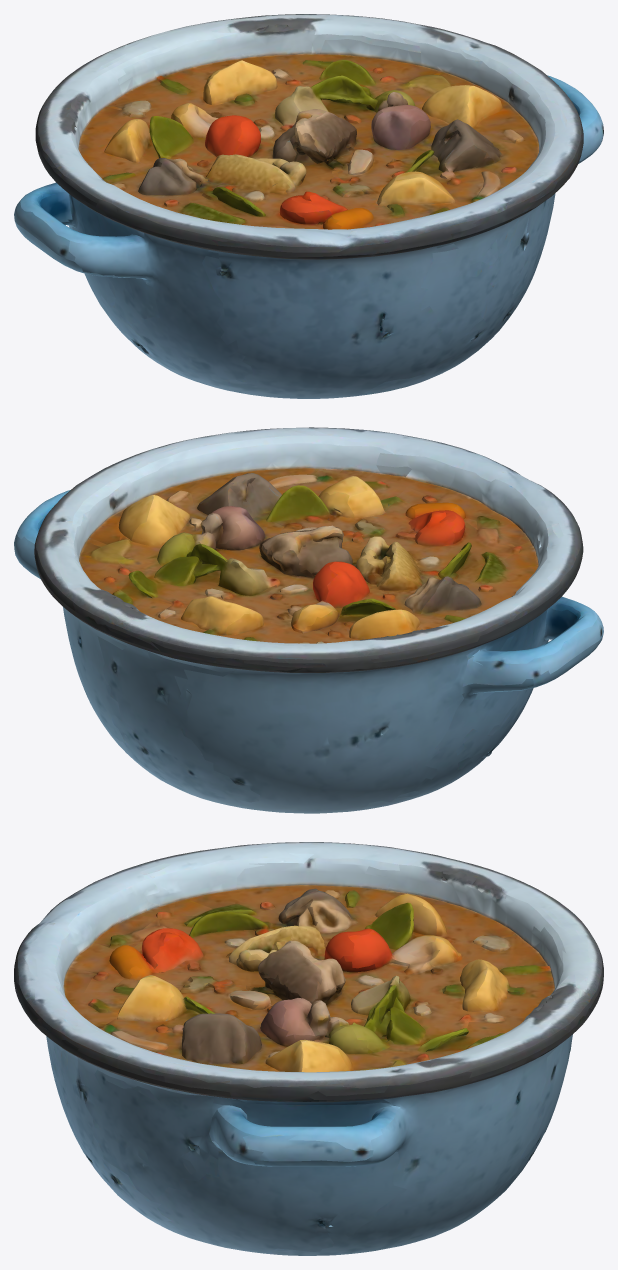
Rendered from pepper_soup.glb.
3 renders of one model, top to bottom at view 1: azimuth 30°, elevation 25°; view 2: azimuth 150°, elevation 25°; view 3: azimuth 270°, elevation 25°, orthographic. The views are drawn at different scales.
Parts seen in each view (by area): view 1: geometry_0; view 2: geometry_0; view 3: geometry_0.
Part boxes in pixels (x1,y1,x2,y2): geometry_0: (14,14,603,398); geometry_0: (14,427,603,813); geometry_0: (14,842,603,1255).
Size of the model in its own units: 0.28 by 0.1043 by 0.2446.
1 material, 1 textured.
